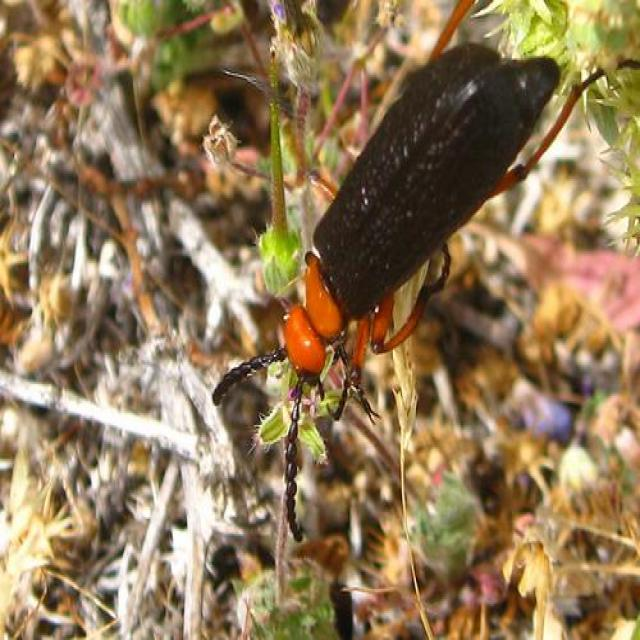BlisterBeetle-Adult-: (213, 18, 577, 493)
